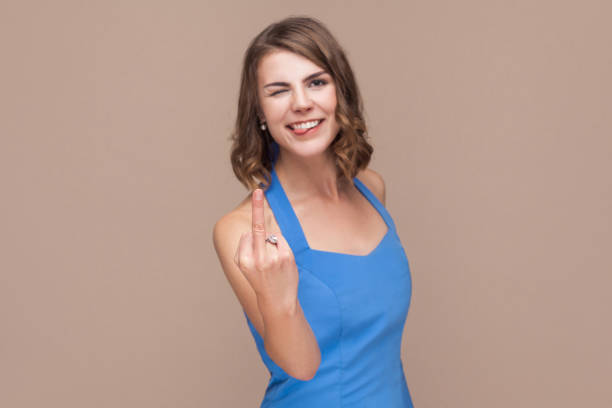insulting_gesture: (235, 190, 298, 298)
